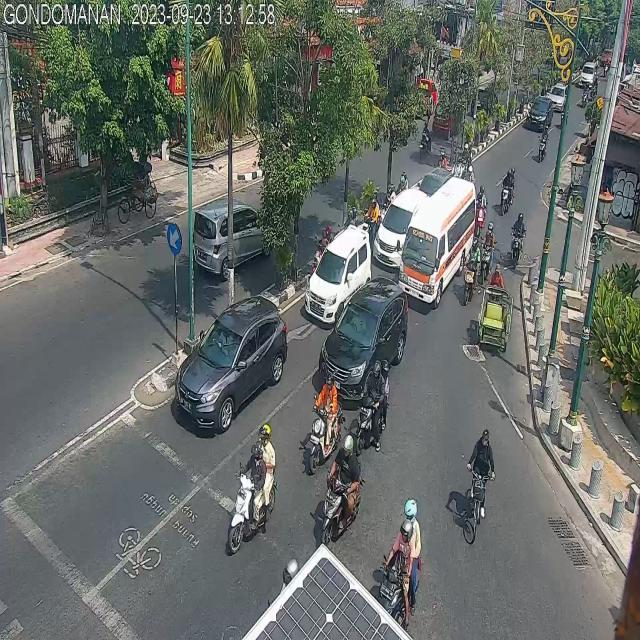bus: (402, 178, 477, 312)
car: (178, 296, 288, 430), (322, 280, 407, 398), (193, 198, 275, 282), (305, 225, 371, 324), (374, 186, 429, 264), (526, 95, 553, 129), (547, 82, 570, 110)
motorcycle: (379, 490, 428, 624), (230, 420, 274, 550), (320, 430, 363, 550), (310, 372, 344, 469), (360, 358, 390, 454), (463, 236, 480, 302), (480, 220, 495, 283), (500, 167, 516, 214), (511, 212, 524, 268), (475, 184, 488, 232), (419, 122, 432, 156), (538, 121, 548, 165)
